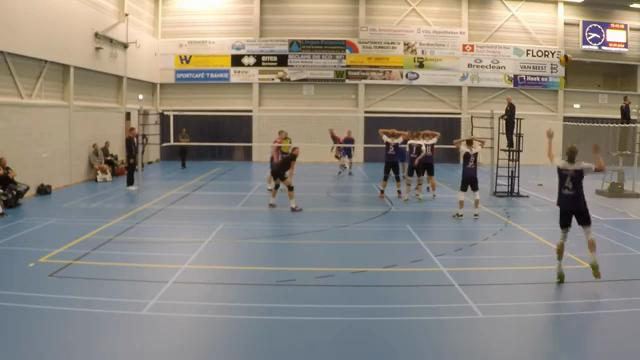battuta: (540, 124, 613, 287)
